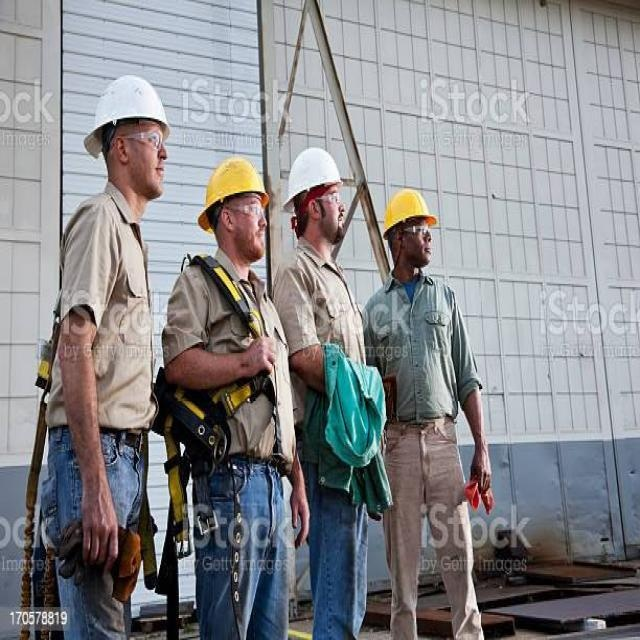Arnes_seguridad: (159, 251, 273, 554)
